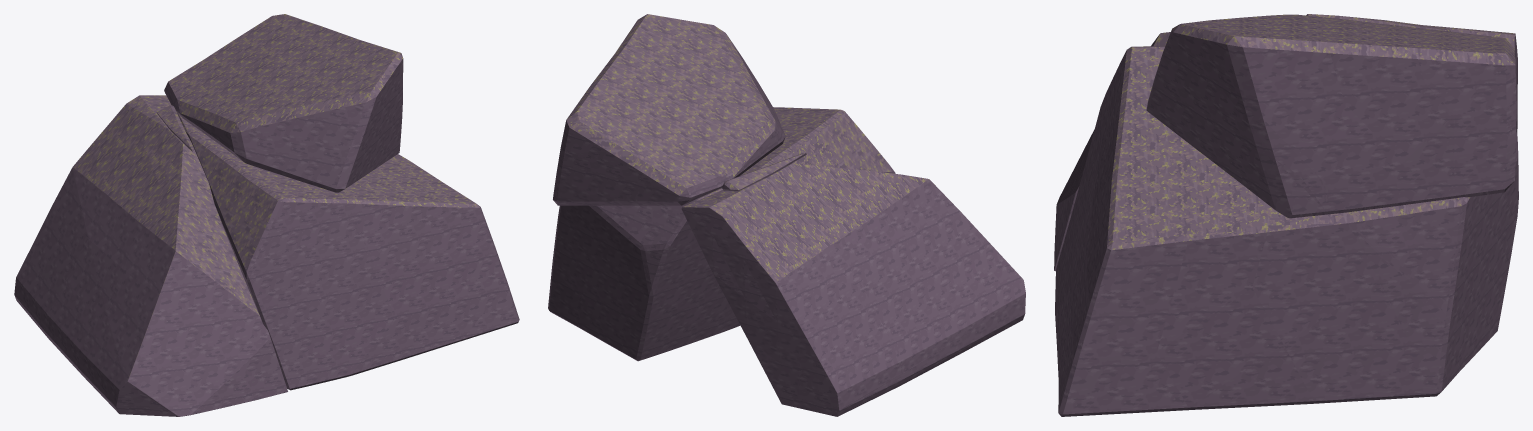
Rendered from A05_Boulder_C.fbx.
3 views of the same model, side by side, from view 1: azimuth 30°, elevation 25°; view 2: azimuth 150°, elevation 25°; view 3: azimuth 270°, elevation 25° (orthographic). The views are drawn at different scales.
Parts seen in each view (by area): view 1: A05C_rock_0, A05C_rock_2, A05C_rock_3, A05C_rock_1; view 2: A05C_rock_0, A05C_rock_3, A05C_rock_2, A05C_rock_1; view 3: A05C_rock_2, A05C_rock_3, A05C_rock_0, A05C_rock_1.
Boxes of the visible parts, x1,y1,x2,y2 form: A05C_rock_0: (14, 95, 287, 416); A05C_rock_2: (176, 112, 519, 390); A05C_rock_3: (164, 14, 403, 192); A05C_rock_1: (156, 105, 194, 152); A05C_rock_0: (681, 163, 1025, 416); A05C_rock_3: (553, 14, 785, 205); A05C_rock_2: (548, 107, 895, 361); A05C_rock_1: (722, 153, 806, 191); A05C_rock_2: (1055, 46, 1518, 416); A05C_rock_3: (1146, 14, 1516, 218); A05C_rock_0: (1054, 25, 1517, 271); A05C_rock_1: (1306, 14, 1450, 31).
Bounding box in the file's own units: 3.16 × 1.99 × 2.33.
